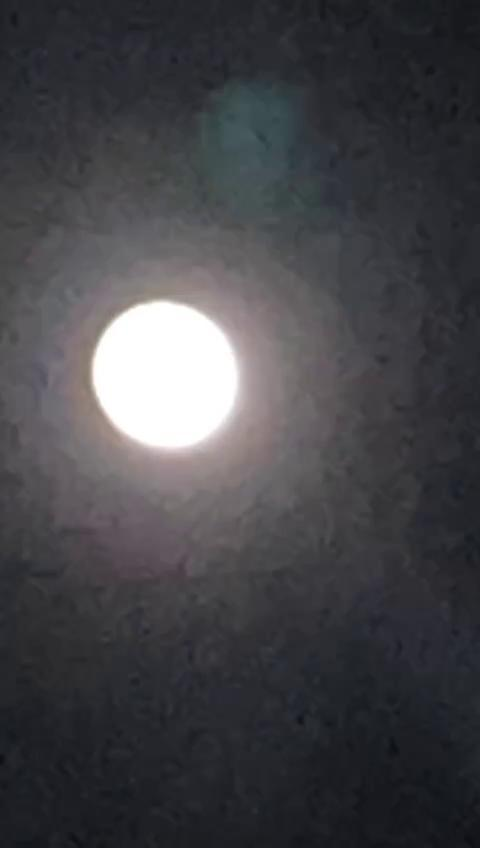moon: (92, 291, 244, 463)
